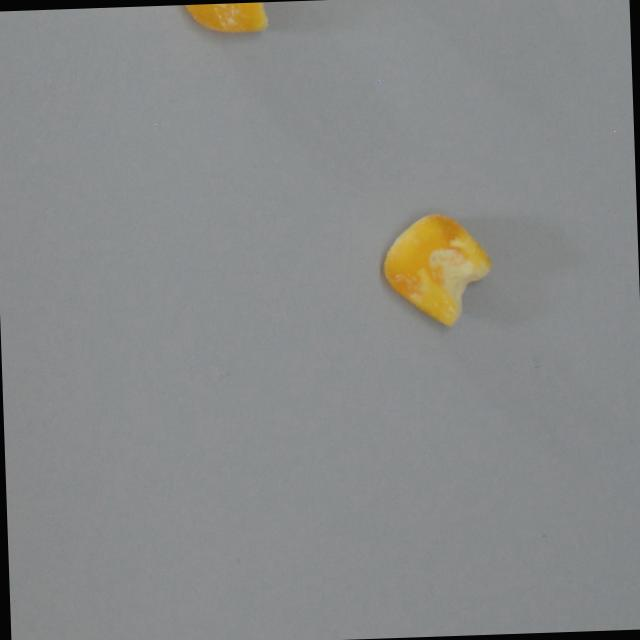pelicula: (176, 1, 286, 39)
punto_negro: (375, 206, 497, 331)
